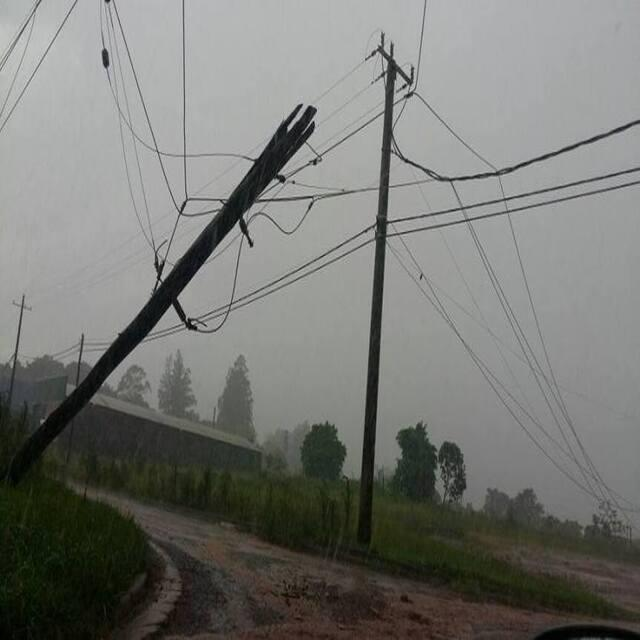Inclined Pole: (0, 100, 322, 497)
